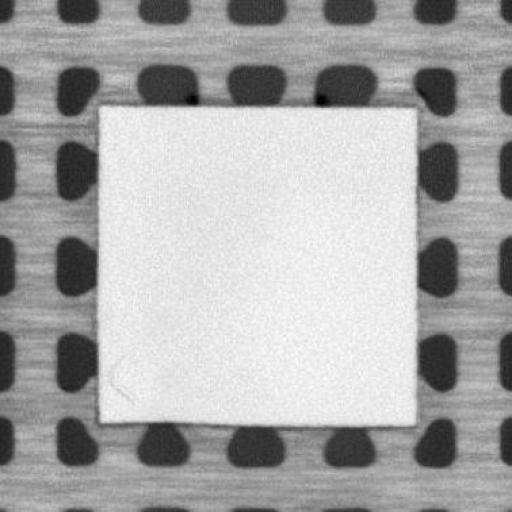DIE_CRACK: (104, 346, 136, 408)
